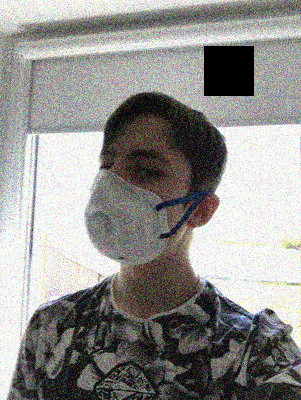with_mask: (84, 139, 178, 267)
